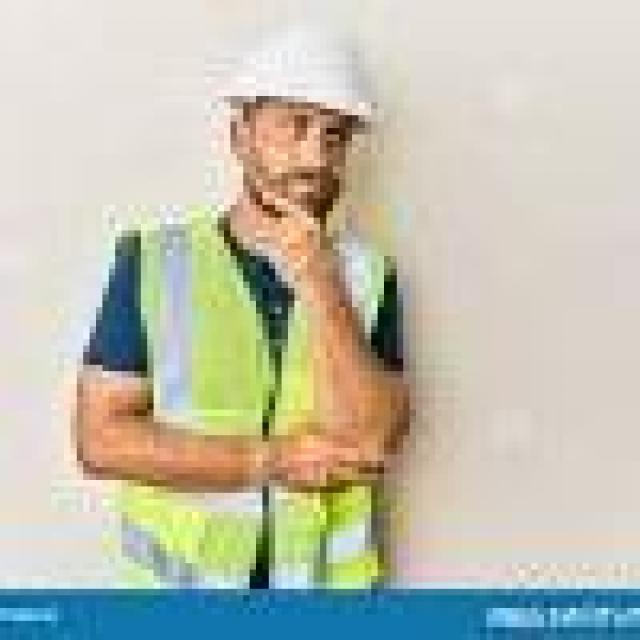Reflective-Jacket: (102, 192, 416, 608)
Safety-Helmet: (205, 6, 416, 141)
